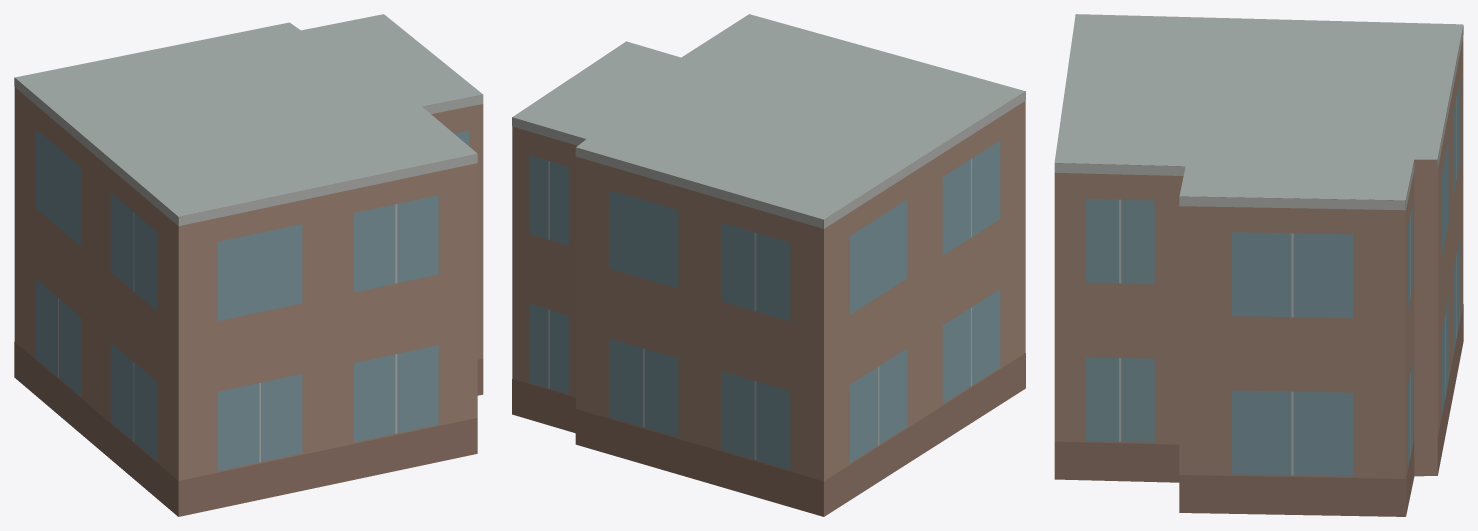
The model's file is survey-upis-32786486.glb.
The picture shows the model from 3 angles, left to right: view 1: azimuth 30°, elevation 25°; view 2: azimuth 150°, elevation 25°; view 3: azimuth 270°, elevation 25°; orthographic projection. The views are drawn at different scales.
Parts seen in each view (by area): view 1: survey-upis-32786486.tmp; view 2: survey-upis-32786486.tmp; view 3: survey-upis-32786486.tmp.
Boxes of the visible parts, box(x1,y1,x2,y2) form: survey-upis-32786486.tmp: box(14, 14, 483, 516); survey-upis-32786486.tmp: box(512, 14, 1025, 516); survey-upis-32786486.tmp: box(1054, 14, 1463, 516).
Size of the model in its own units: 9.86 by 7.8 by 9.15.
